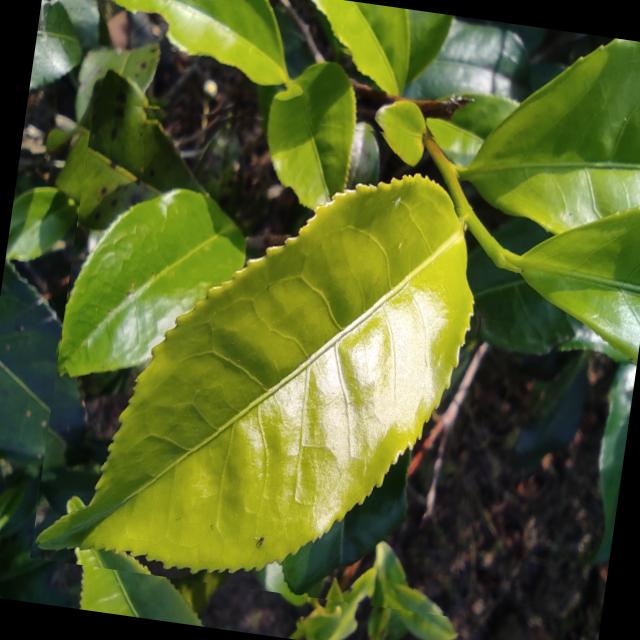Category B(2-4 days): (29, 87, 520, 618)
